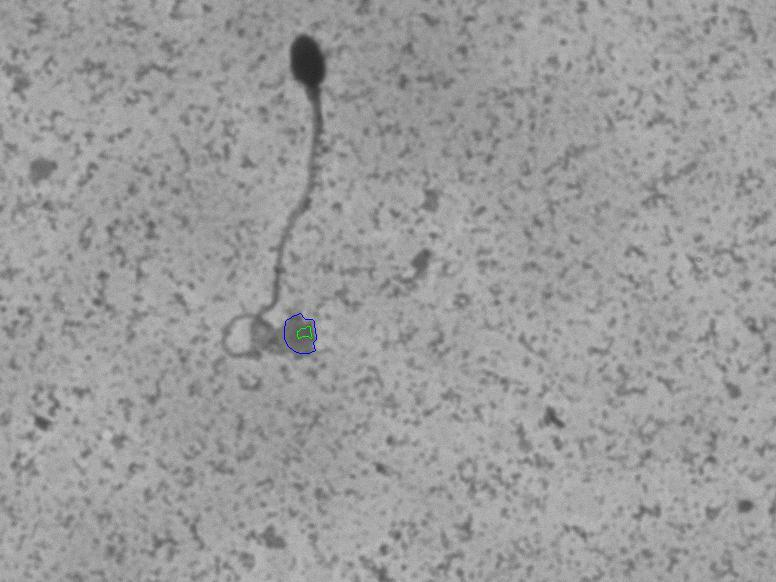Abnormal: (205, 23, 340, 370)
